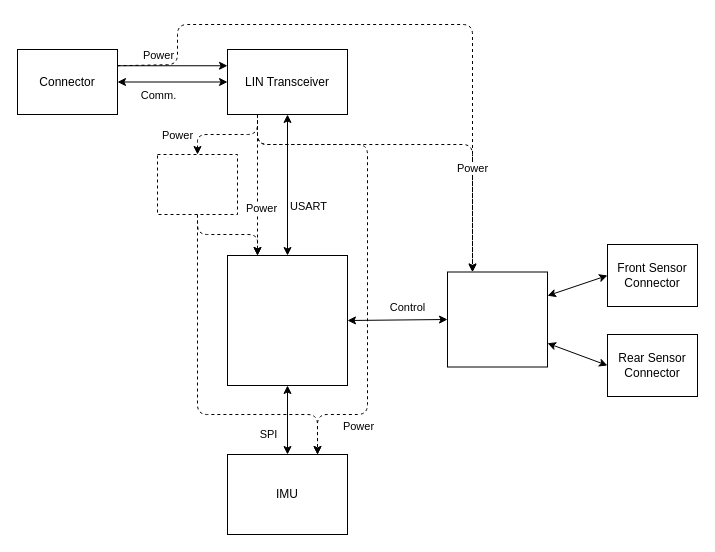
Image size: 715x552. Some labels were removed from this diagram. The shapes that lost their labels are listed below. From the top down, each one's box as (x1, y1, x2, y2) in pixels, then its label:
(156, 154, 238, 214): Voltage Regulator
(226, 254, 348, 386): Microcontroller
(446, 271, 548, 367): Output Stage
